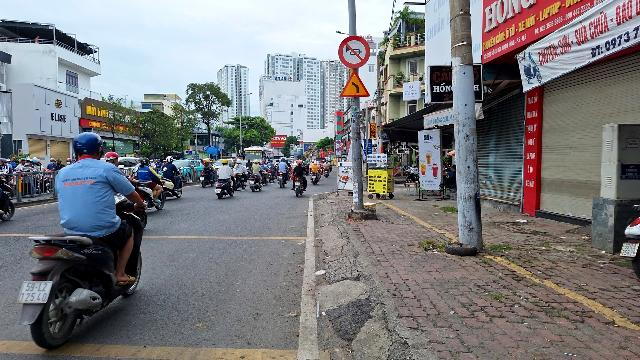cam-bop-coi: (338, 35, 370, 69)
cho-ngoat-nguy-hiem-ben-trai: (340, 70, 370, 98)
